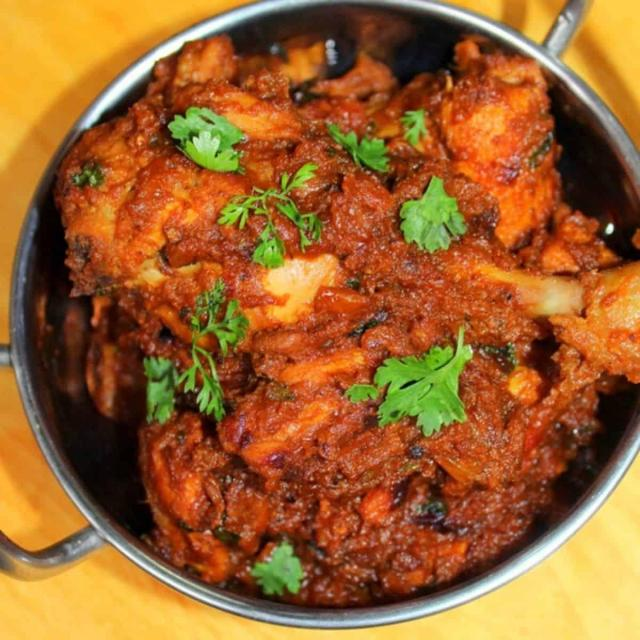chicken: (23, 56, 640, 604)
